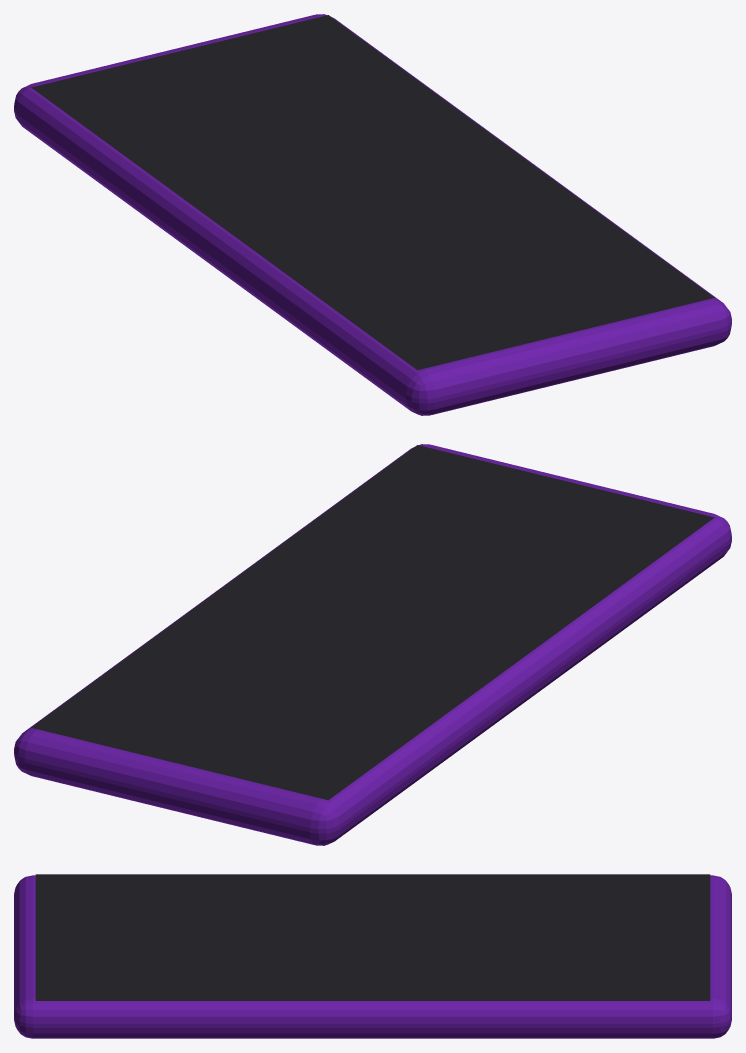
The model's file is vivo-t-model-61-budget-2023.glb.
The picture shows the model from 3 angles, top to bottom: view 1: azimuth 30°, elevation 25°; view 2: azimuth 150°, elevation 25°; view 3: azimuth 270°, elevation 25°; orthographic projection. The views are drawn at different scales.
Visible parts, largest first — view 1: Phone_Screen, Phone_Body; view 2: Phone_Screen, Phone_Body; view 3: Phone_Screen, Phone_Body.
Boxes of the visible parts, box(x1,y1,x2,y2) form: Phone_Screen: box(31, 15, 714, 370); Phone_Body: box(14, 14, 731, 415); Phone_Screen: box(31, 445, 714, 800); Phone_Body: box(14, 444, 731, 845); Phone_Screen: box(35, 874, 710, 1000); Phone_Body: box(14, 875, 731, 1038).
Size of the model in its own units: 0.0726 by 0.0095 by 0.1599.
